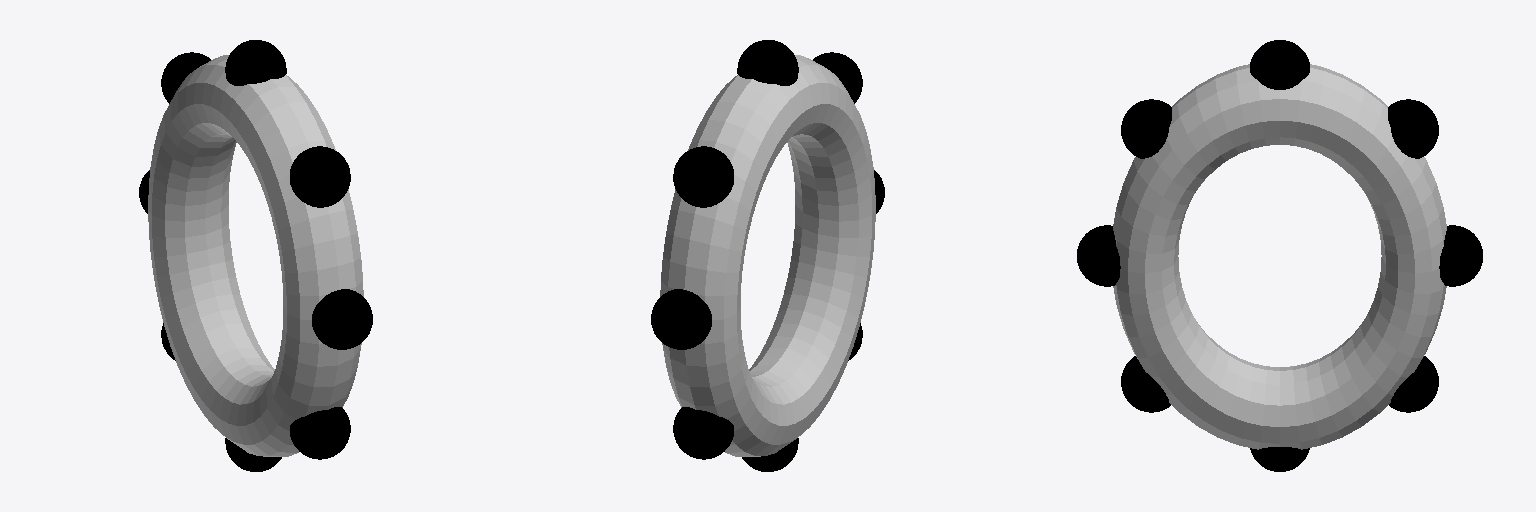
File: Portal.obj
3 views of the same model, side by side, from view 1: azimuth 30°, elevation 25°; view 2: azimuth 150°, elevation 25°; view 3: azimuth 270°, elevation 25° (orthographic).
Parts seen in each view (by area): view 1: Torus, Sphere.001, Sphere.004, Sphere.006, Sphere.002, Sphere.003, Sphere.007; view 2: Torus, Sphere.003, Sphere, Sphere.005, Sphere.002, Sphere.001, Sphere.007; view 3: Torus, Sphere.001, Sphere.003, Sphere.002, Sphere, Sphere.004, Sphere.005, Sphere.006, Sphere.007.
Part boxes in pixels (x1,y1,x2,y2): Torus: (148, 55, 363, 456); Sphere.001: (290, 146, 350, 207); Sphere.004: (312, 289, 372, 349); Sphere.006: (290, 407, 350, 459); Sphere.002: (225, 40, 286, 85); Sphere.003: (161, 52, 210, 103); Sphere.007: (225, 438, 281, 471); Torus: (660, 55, 875, 456); Sphere.003: (673, 146, 733, 207); Sphere: (651, 289, 711, 349); Sphere.005: (673, 407, 733, 459); Sphere.002: (737, 40, 798, 85); Sphere.001: (813, 52, 862, 103); Sphere.007: (742, 438, 798, 471); Torus: (1113, 64, 1446, 449); Sphere.001: (1121, 99, 1171, 158); Sphere.003: (1388, 99, 1438, 158); Sphere.002: (1250, 40, 1309, 89); Sphere: (1439, 225, 1482, 286); Sphere.004: (1077, 225, 1120, 286); Sphere.005: (1389, 356, 1438, 412); Sphere.006: (1121, 356, 1170, 412); Sphere.007: (1250, 447, 1309, 471).
Bounding box in the file's own units: 0.5 × 2.78 × 2.4.